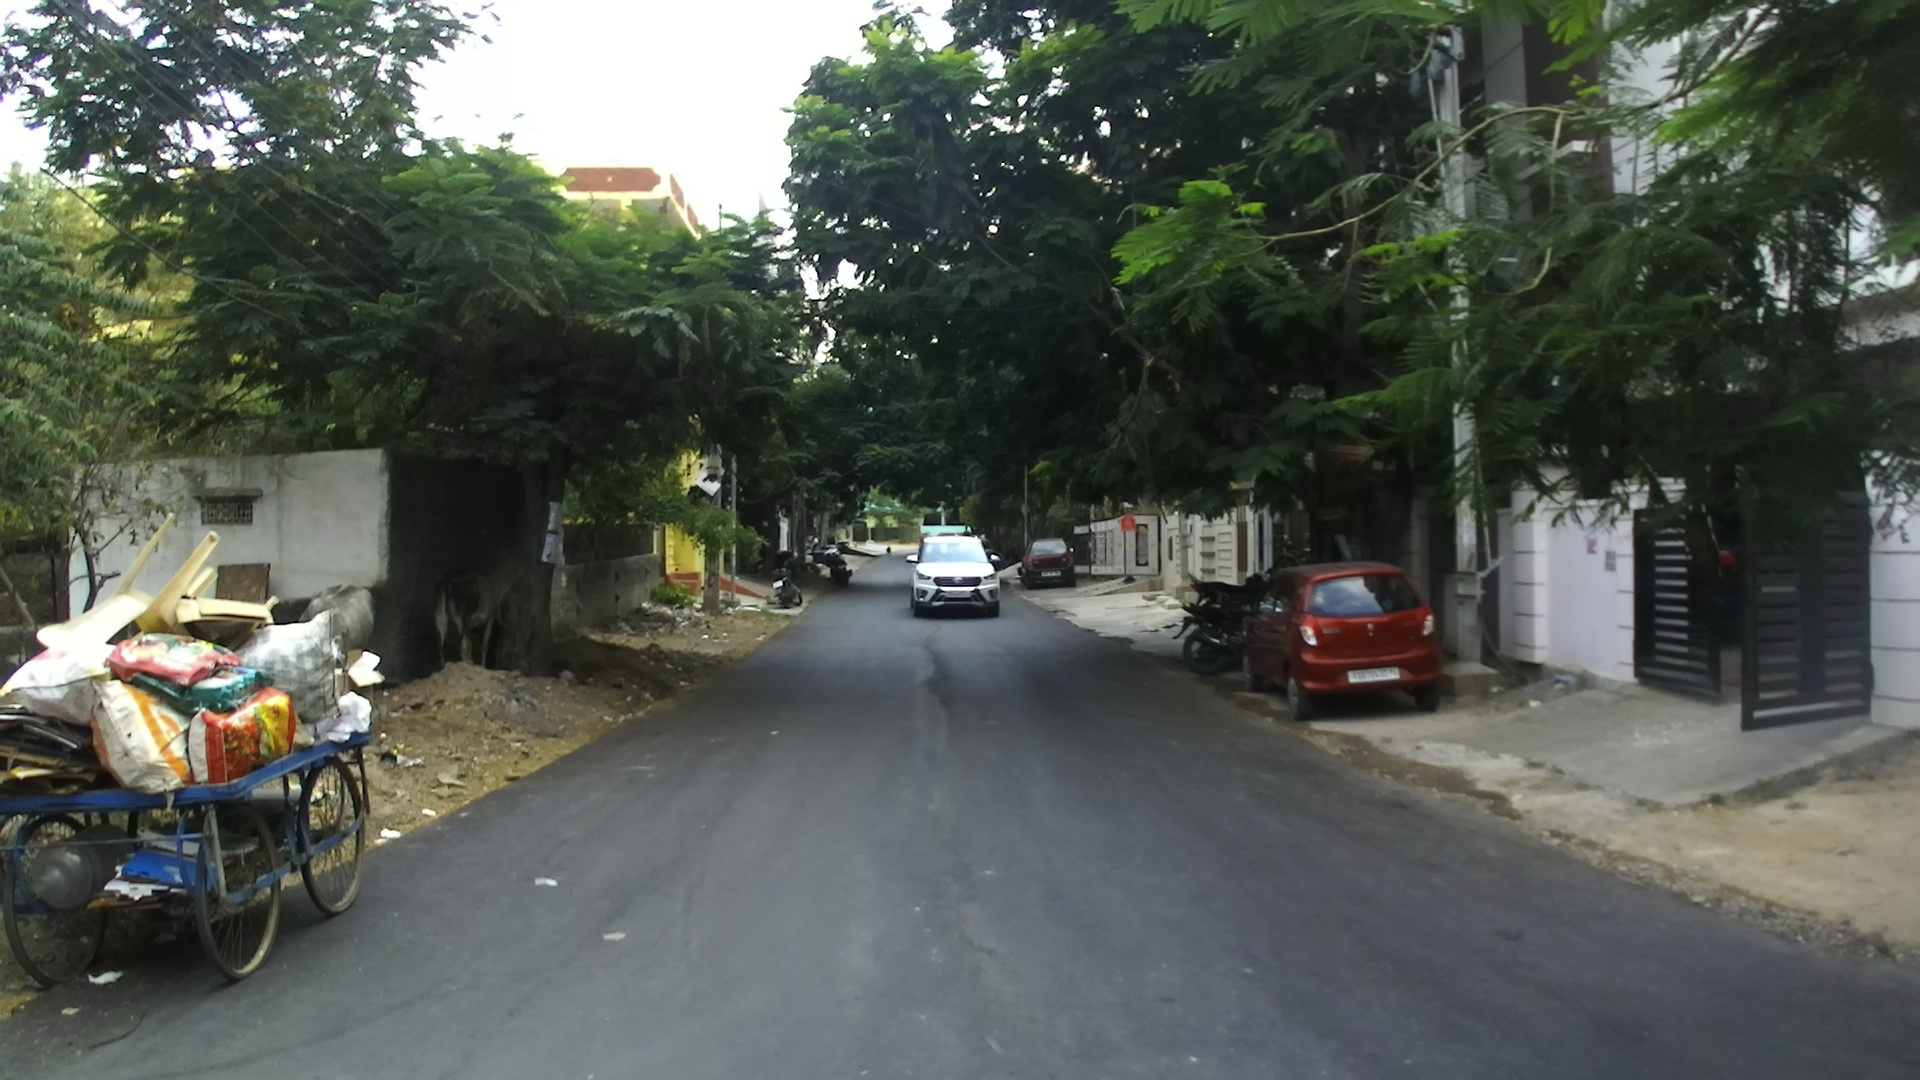vehicle: (0, 520, 386, 992), (1244, 558, 1449, 719), (906, 533, 1002, 618), (1017, 541, 1075, 587), (806, 541, 851, 585)
